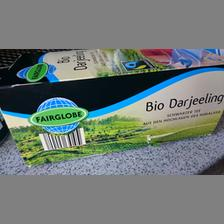Tee: (0, 48, 224, 168)
